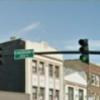traffic lights: (79, 39, 89, 64)
